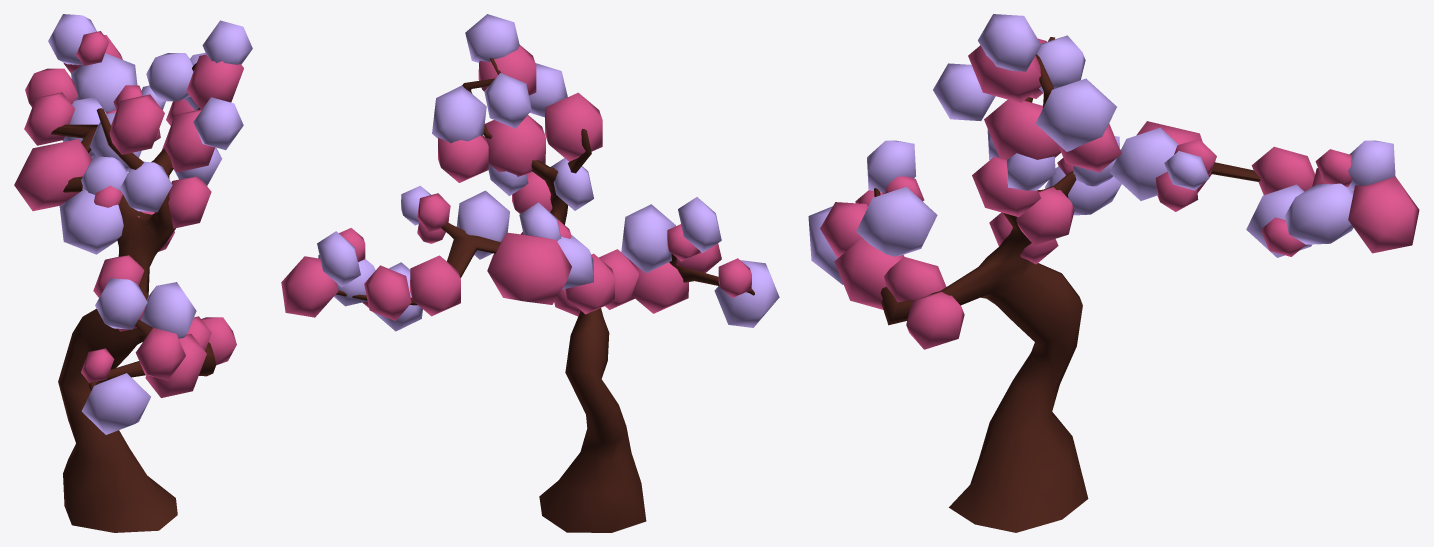
The model's file is Sakura_4 Asia.fbx.
3 renders of one model, left to right at view 1: azimuth 30°, elevation 25°; view 2: azimuth 150°, elevation 25°; view 3: azimuth 270°, elevation 25°, orthographic. The views are drawn at different scales.
Parts seen in each view (by area): view 1: Sakura_2.001, Sakura_2; view 2: Sakura_2.001, Sakura_2; view 3: Sakura_2.001, Sakura_2.
Boxes of the visible parts, box(x1,y1,x2,y2) form: Sakura_2.001: box(14, 14, 252, 434); Sakura_2: box(51, 63, 215, 532); Sakura_2.001: box(281, 14, 779, 331); Sakura_2: box(336, 58, 754, 532); Sakura_2.001: box(808, 14, 1419, 349); Sakura_2: box(874, 37, 1260, 532).
Bounding box in the file's own units: 488 × 829 × 842.
